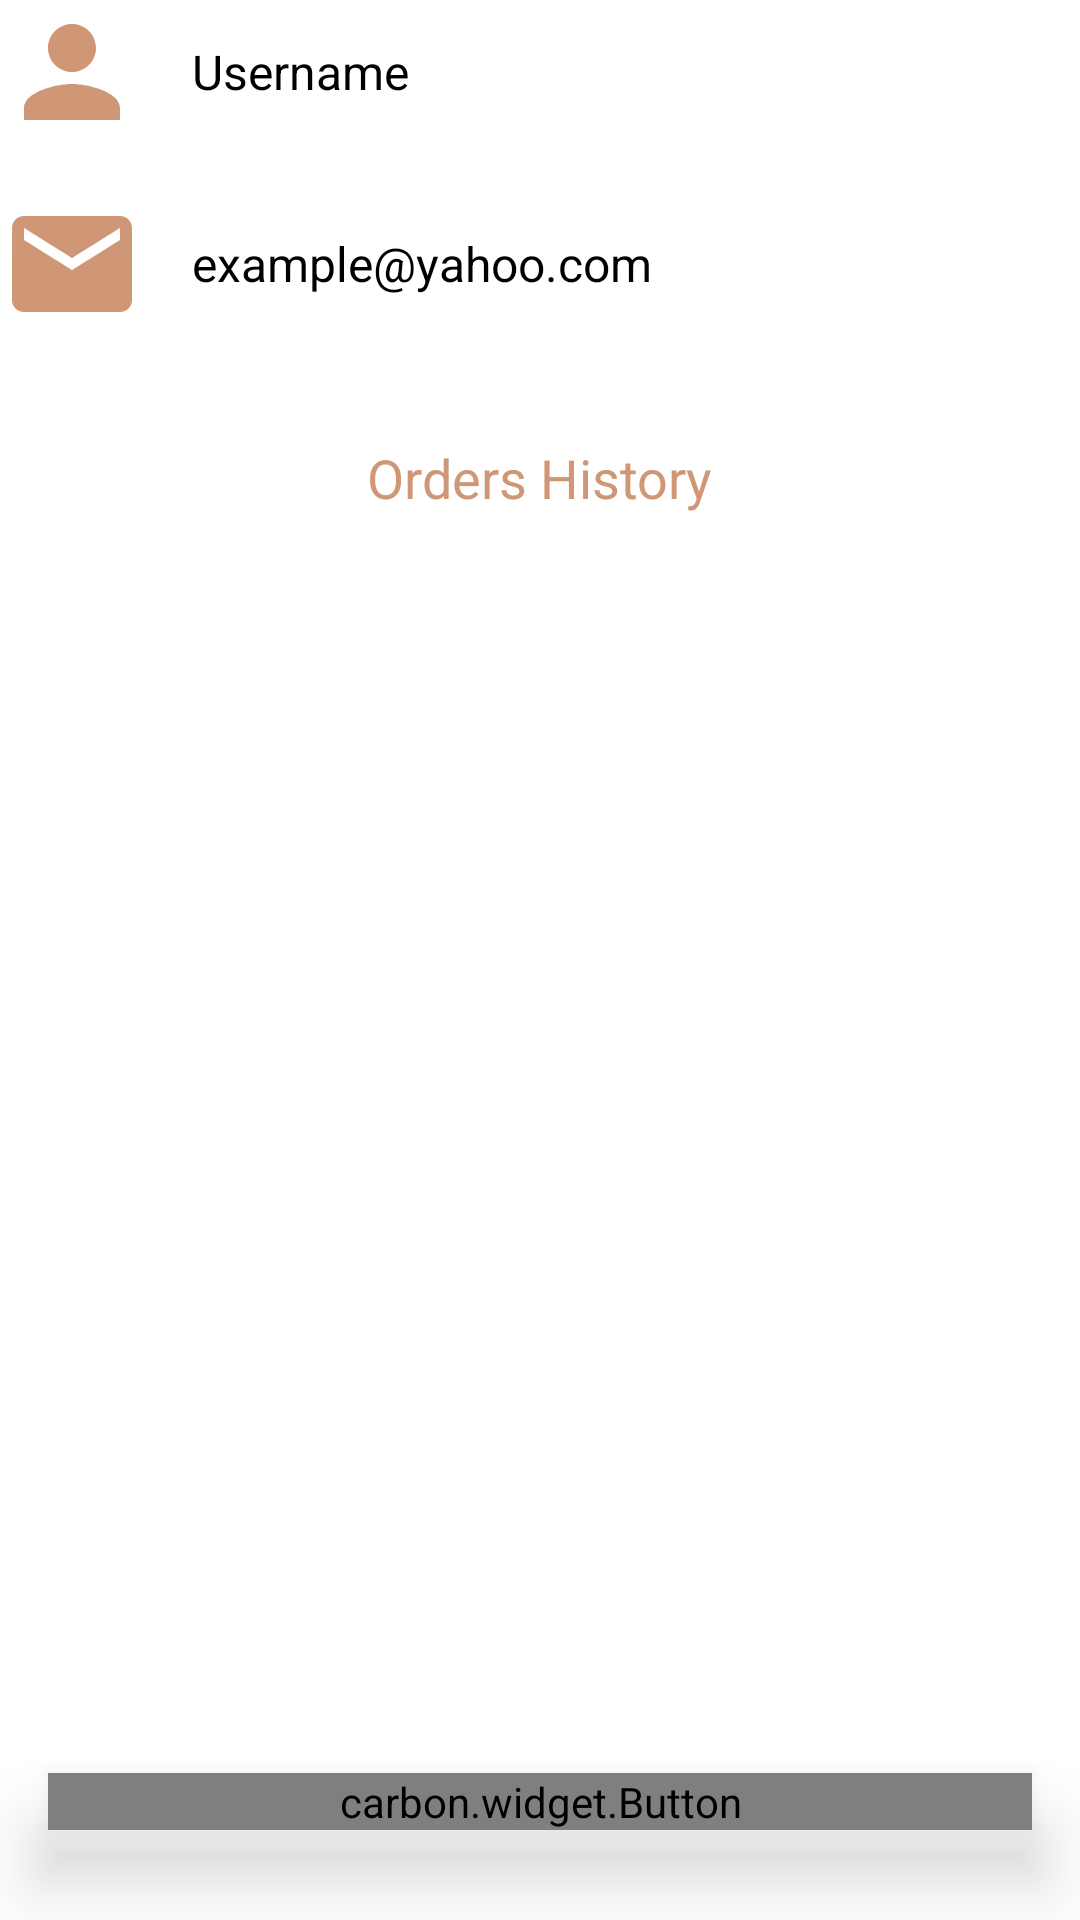

Icons on this 1080x1920 Android screen, each with the point to tap as [x,y]:
email: [72,264]
person: [72,72]
